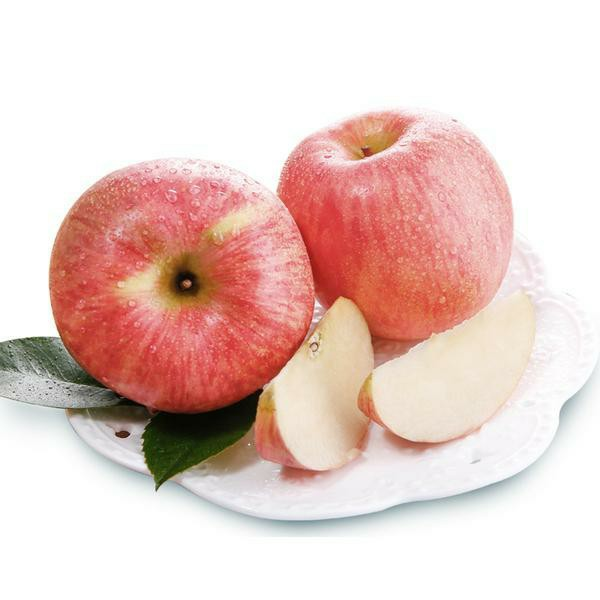fresh_apple: (47, 160, 311, 410), (285, 109, 517, 331)
